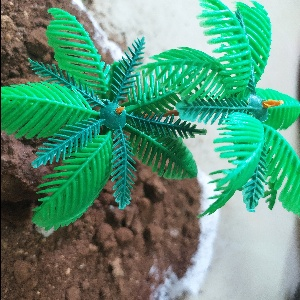plant: (14, 10, 300, 204)
